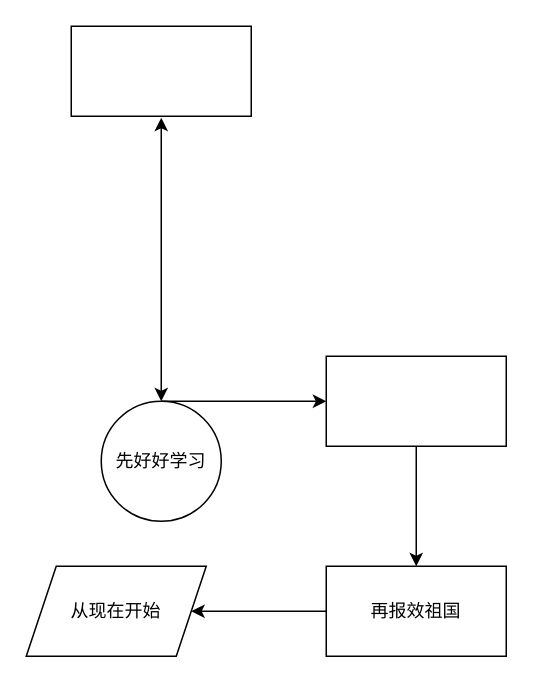
Image size: 533x683. Some labels were removed from this diagram. Each missing label, with the centre of its shape:
为中华之崛起: point 160,70
再好好赚钱: point 415,400
